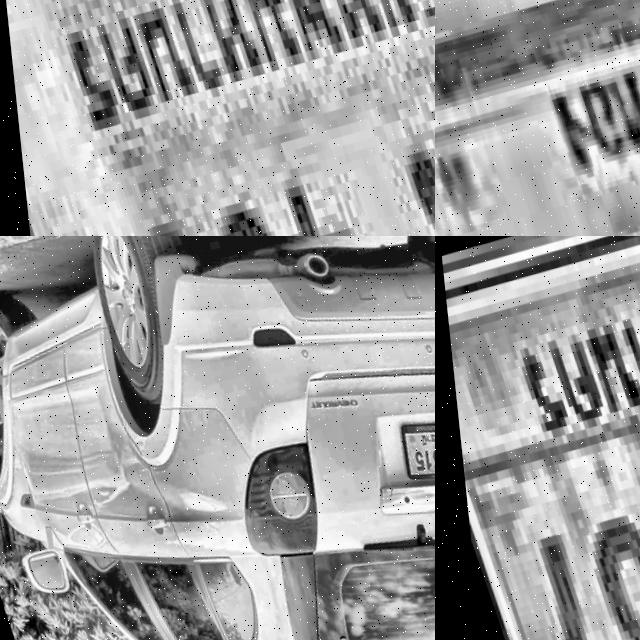license-plate: (0, 0, 435, 236), (435, 236, 640, 640), (435, 0, 640, 236), (379, 407, 435, 500)
